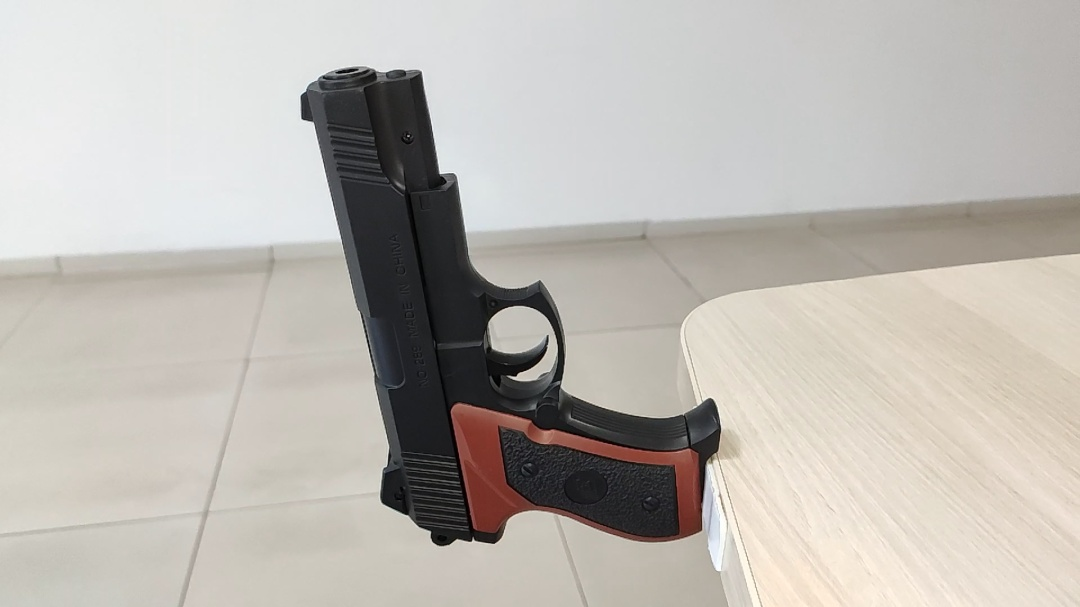gun: (296, 65, 723, 552)
